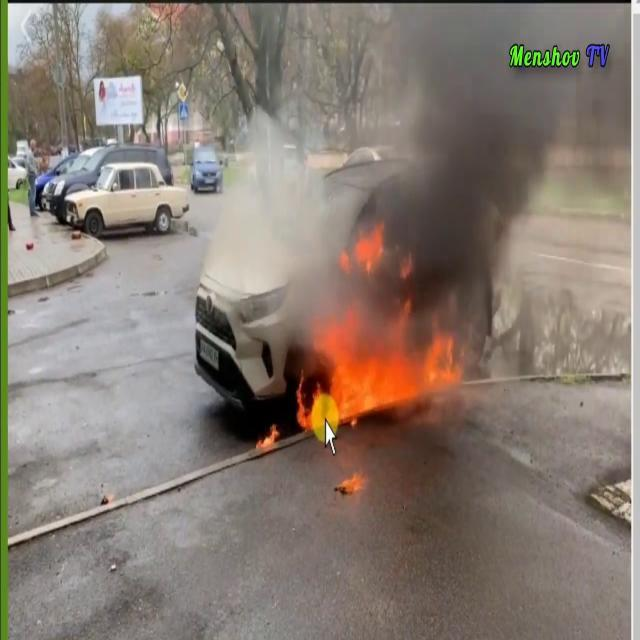Fire: (296, 318, 458, 432)
Smoke: (372, 2, 630, 314), (200, 86, 354, 322)
